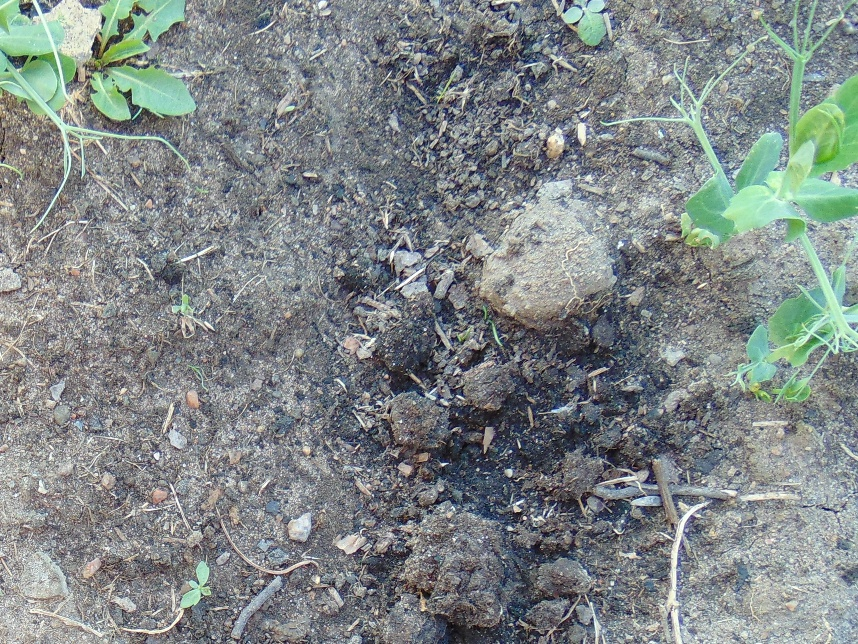crop: (659, 24, 858, 412), (1, 2, 115, 190)
weed: (555, 1, 610, 50), (180, 559, 220, 615)
